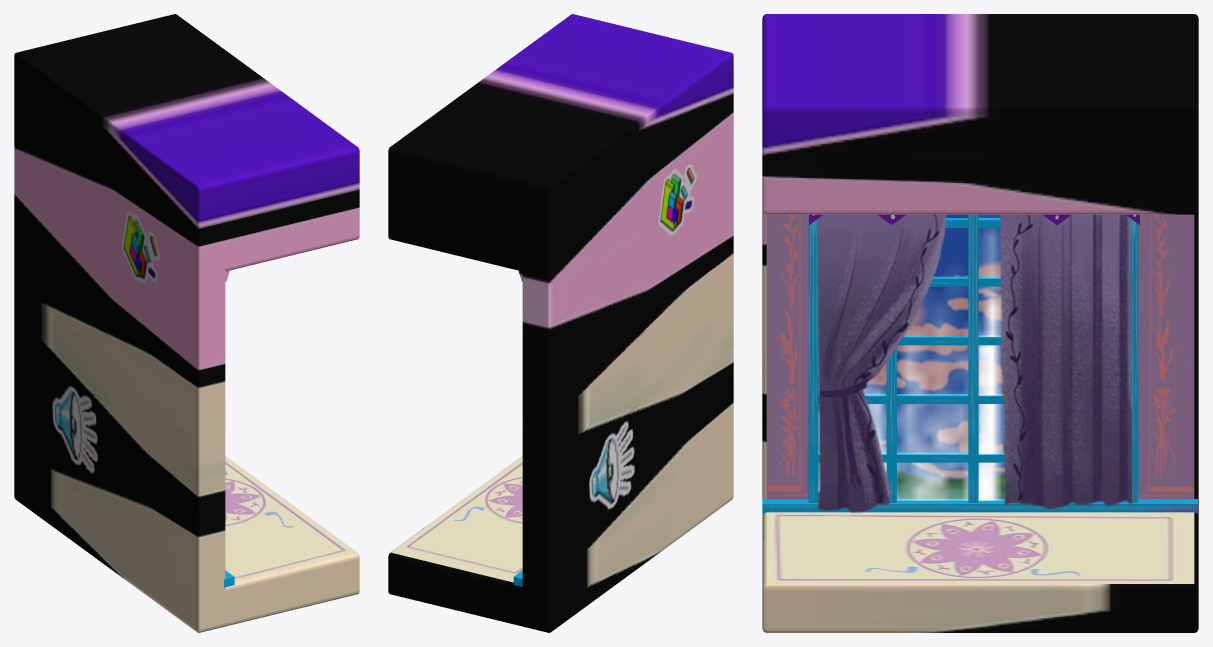
The model's file is glass-corner-vapor.glb.
3 renders of one model, left to right at view 1: azimuth 30°, elevation 25°; view 2: azimuth 150°, elevation 25°; view 3: azimuth 270°, elevation 25°, orthographic. The views are drawn at different scales.
Visible parts, largest first — view 1: Glass_Corner_Vapor; view 2: Glass_Corner_Vapor; view 3: Glass_Corner_Vapor.
Boxes of the visible parts, x1=… form: Glass_Corner_Vapor: x1=14, y1=14, x2=359, y2=632; Glass_Corner_Vapor: x1=388, y1=14, x2=733, y2=632; Glass_Corner_Vapor: x1=762, y1=14, x2=1198, y2=632.
Bounding box in the file's own units: 3.04 × 7.99 × 5.99.
5 materials, 5 textured.
